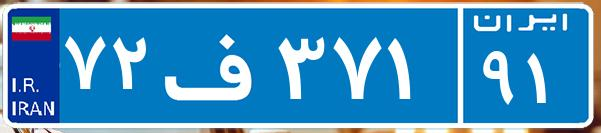1: (385, 28, 445, 110), (525, 38, 570, 115)
2: (110, 28, 158, 105)
3: (273, 28, 330, 110)
7: (330, 28, 385, 110), (57, 26, 110, 107)
9: (475, 38, 525, 113)
ف: (158, 15, 273, 115)
